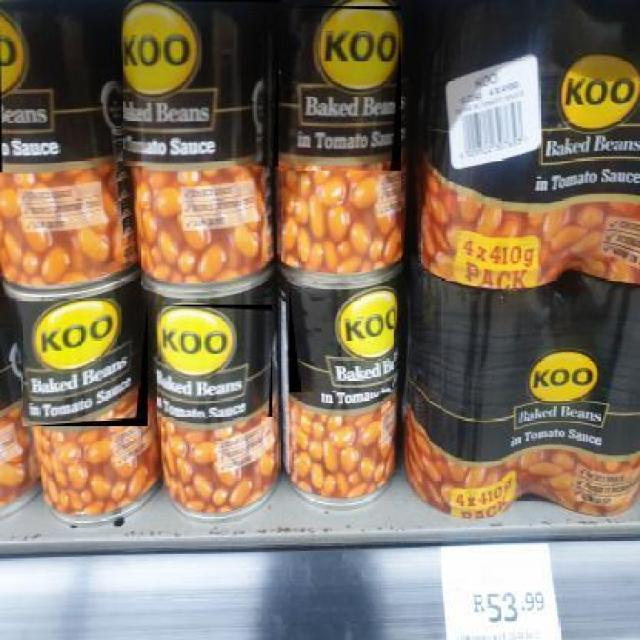Beans: (122, 0, 280, 168), (279, 6, 402, 172), (0, 20, 124, 173), (23, 299, 149, 428), (158, 305, 275, 419), (290, 286, 396, 394)
